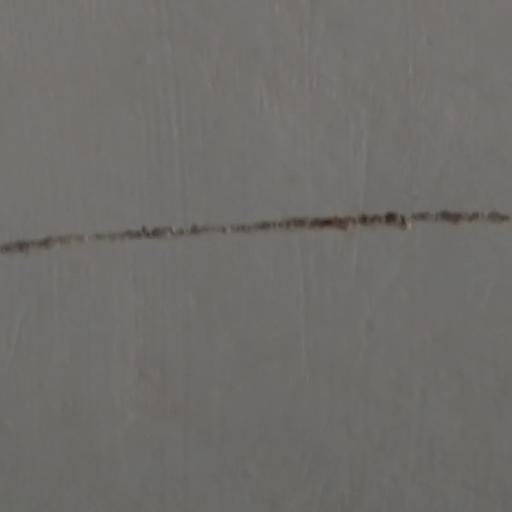stain: (0, 195, 512, 262)
